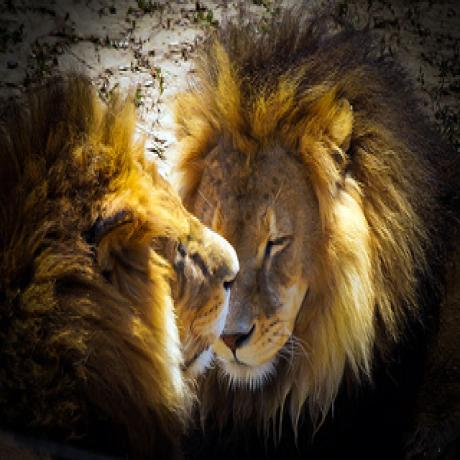Lion: (193, 0, 460, 451), (0, 57, 243, 460)
